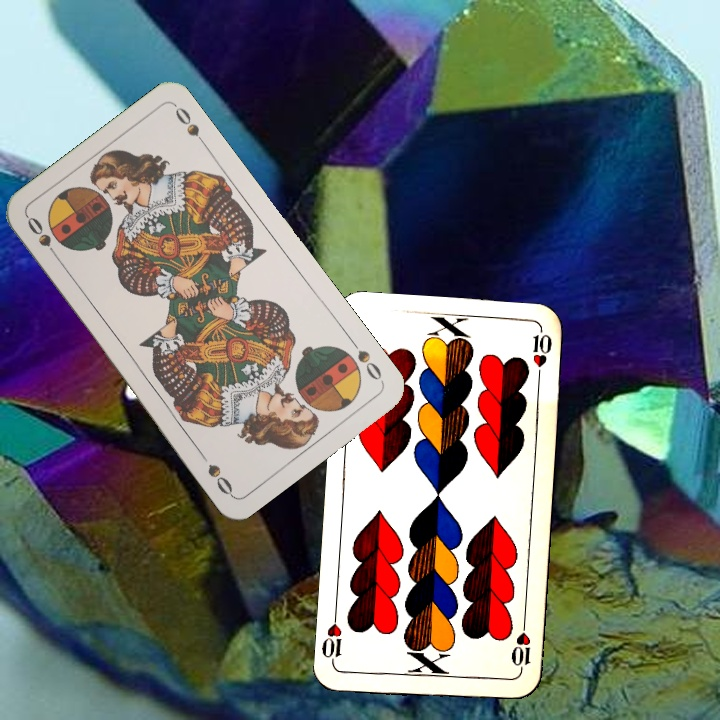H10: (507, 617, 534, 676)
SO: (345, 334, 386, 385), (23, 212, 63, 264)
